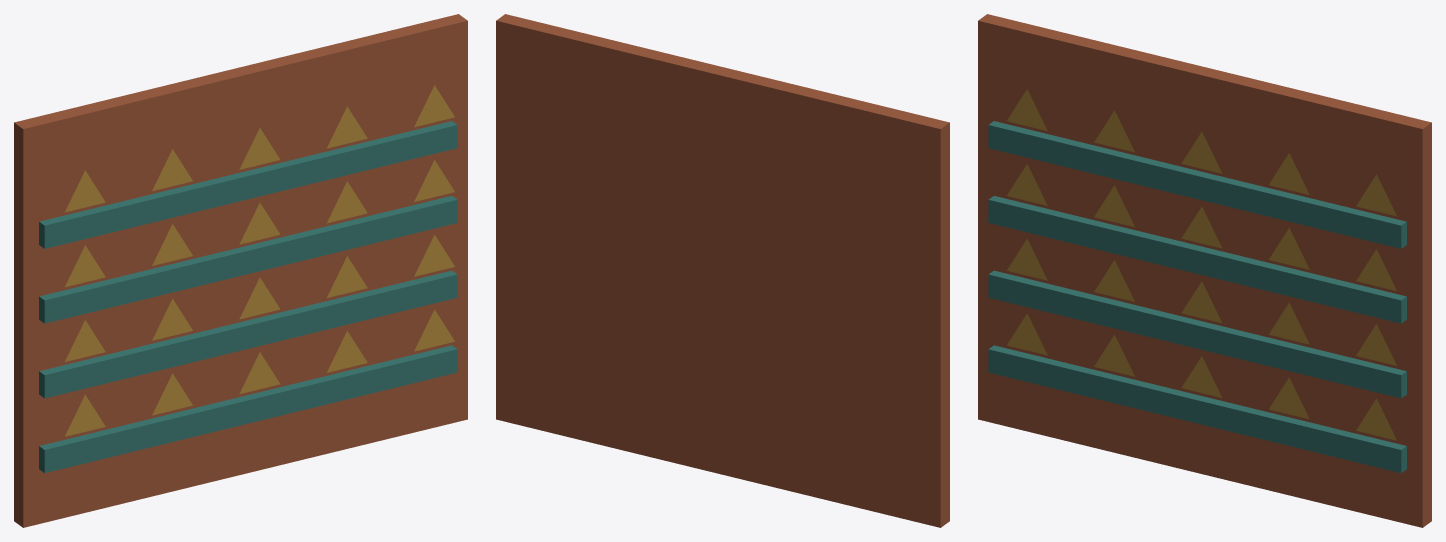
The model's file is textile-sign.glb.
3 views of the same model, side by side, from view 1: azimuth 30°, elevation 25°; view 2: azimuth 150°, elevation 25°; view 3: azimuth 330°, elevation 25° (orthographic).
Parts seen in each view (by area): view 1: wind-sign-0-surface; view 2: wind-sign-0-surface; view 3: wind-sign-0-surface.
Part boxes in pixels (x1,y1,x2,y2): wind-sign-0-surface: (14,14,467,527); wind-sign-0-surface: (496,14,949,527); wind-sign-0-surface: (978,14,1431,527).
Bounding box in the file's own units: 2.8 × 2.4 × 0.17.
